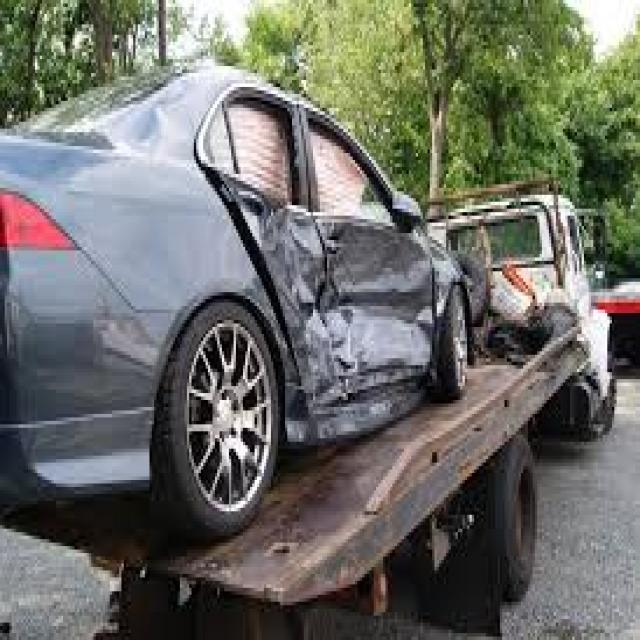moderate: (240, 127, 482, 431)
